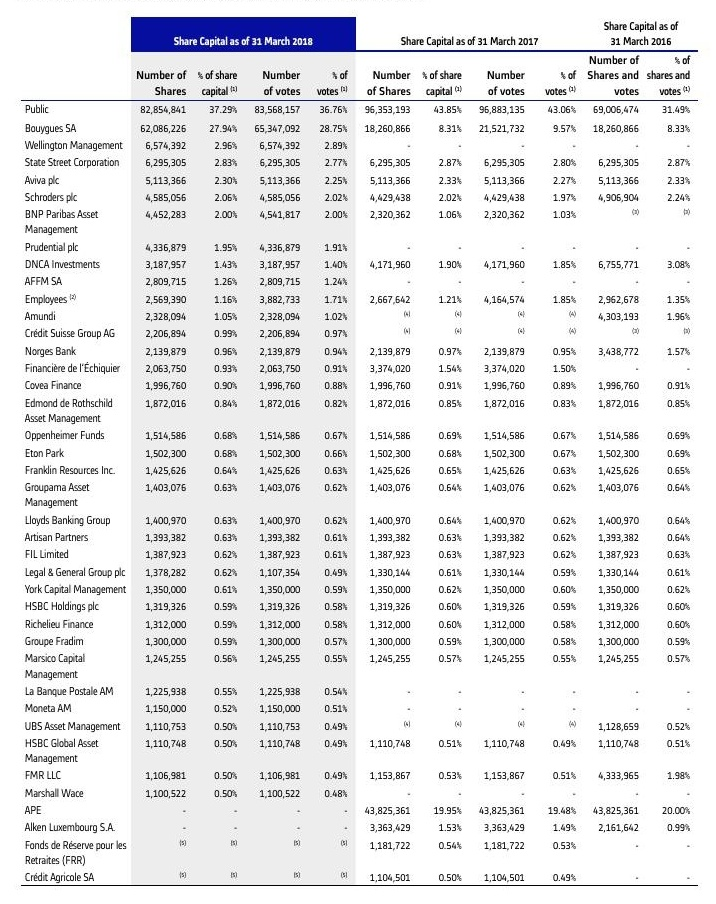table: (0, 0, 716, 904)
